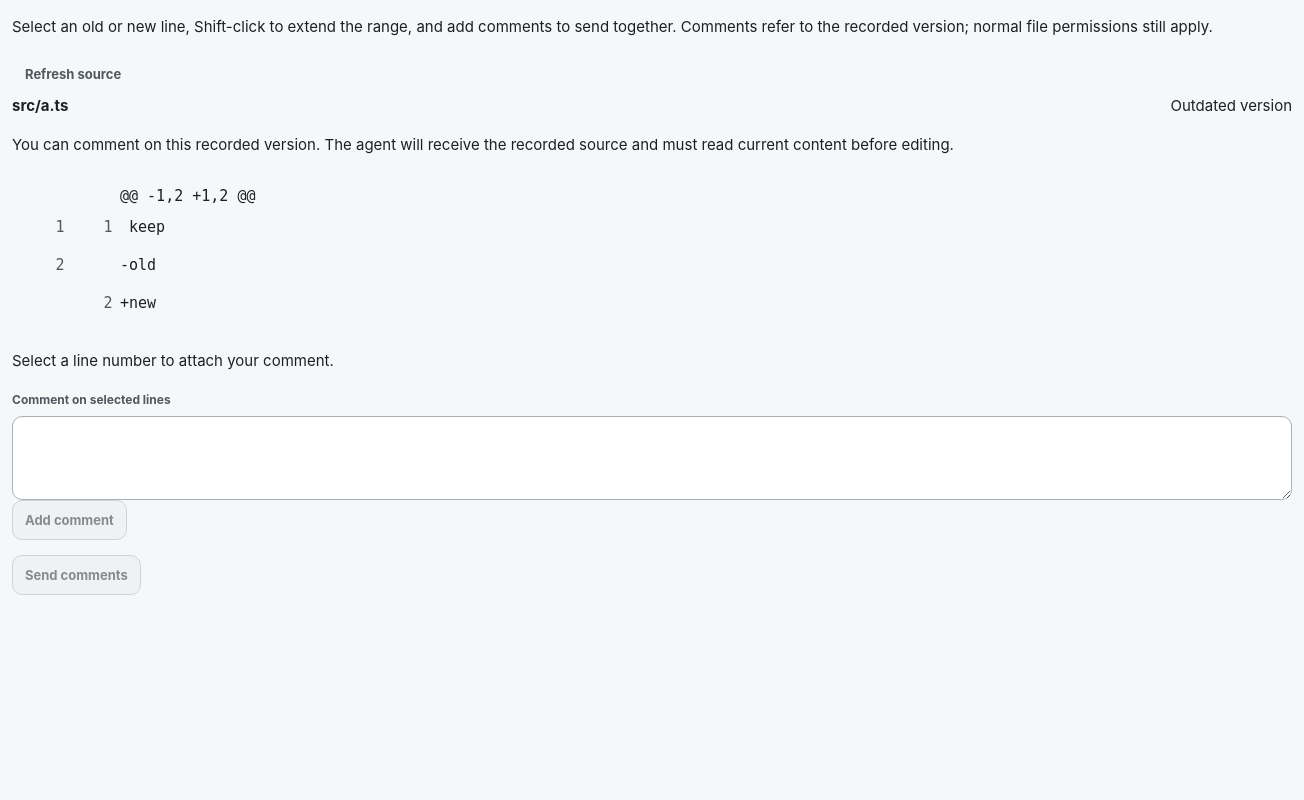
Test: sends an outdated original range and preserves the batch through deferred failure and retry
Expected: the text "Outdated version" is shown, x1=1170 y1=94 x2=1292 y2=118
Click the button named "Select src/a.ts new line 1" at coordinates (108, 227), box x1=72 y1=208 x2=144 y2=246
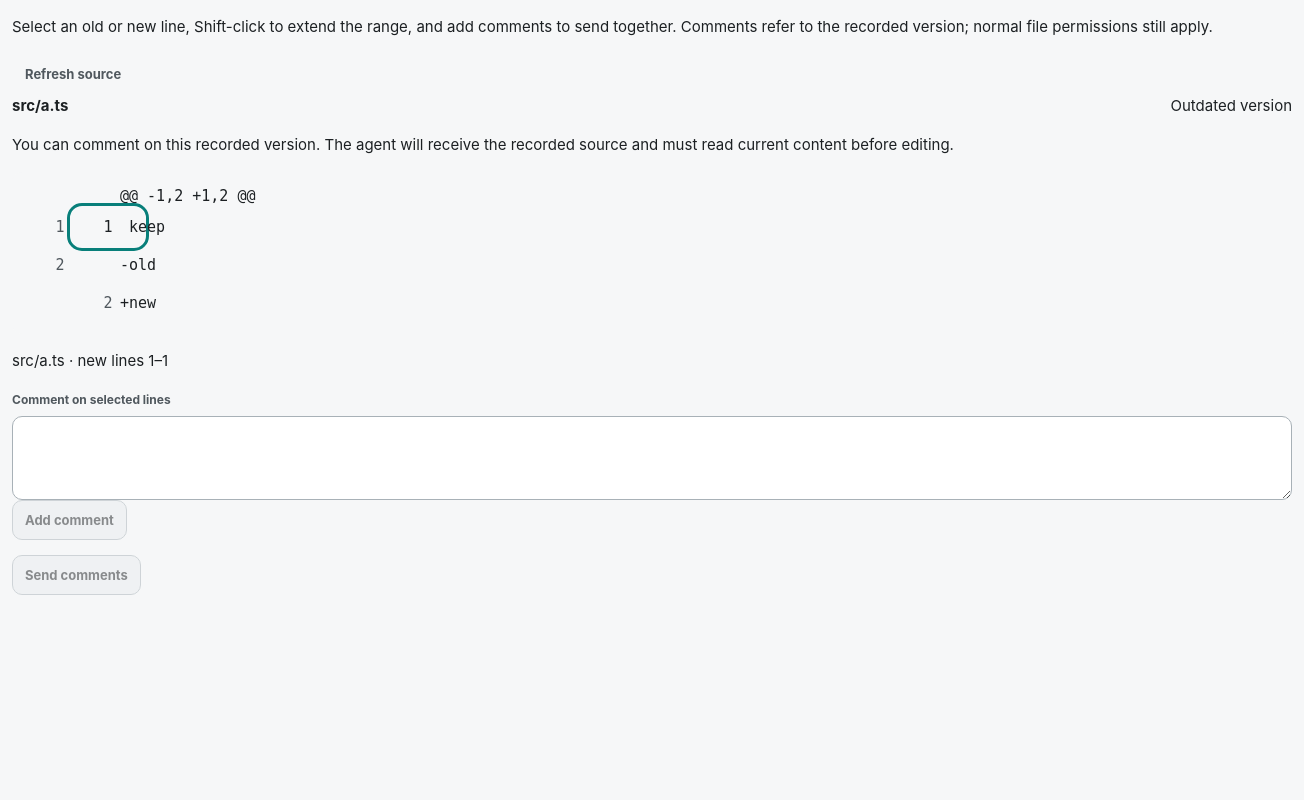
Click the button named "Select src/a.ts new line 2" at coordinates (108, 303), box x1=72 y1=284 x2=144 y2=322
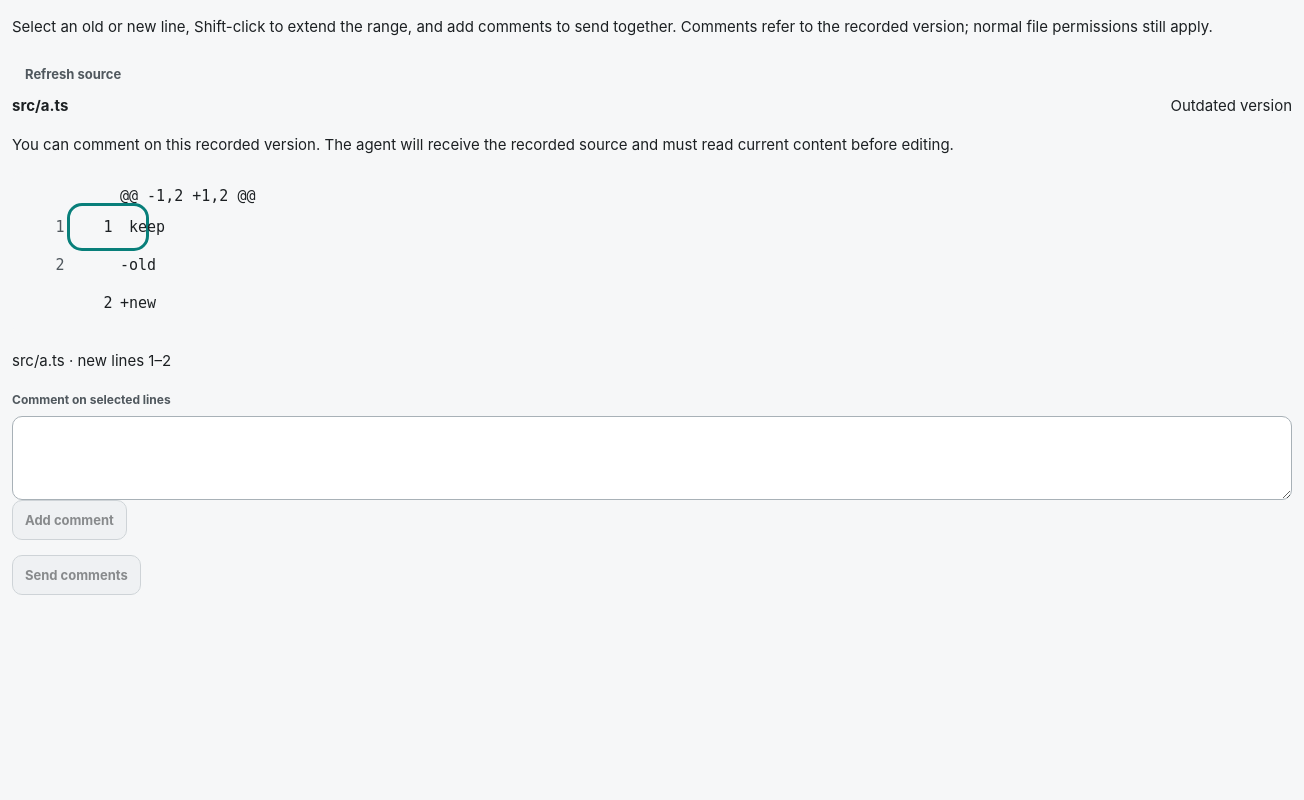
Type "Please clarify the new behavior" into the text box at coordinates (652, 458), box x1=12 y1=416 x2=1292 y2=500
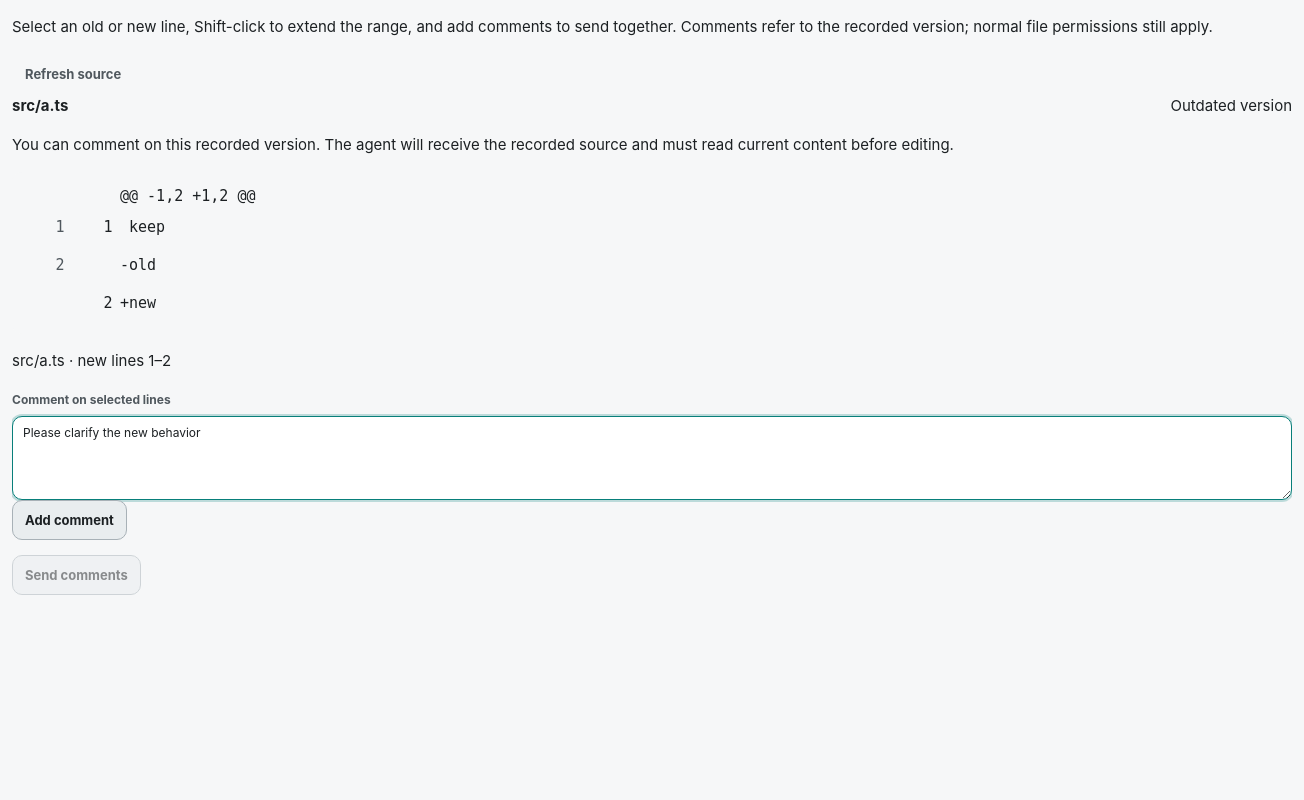
Click the button "Add comment" at coordinates (69, 520), box x1=12 y1=500 x2=127 y2=540
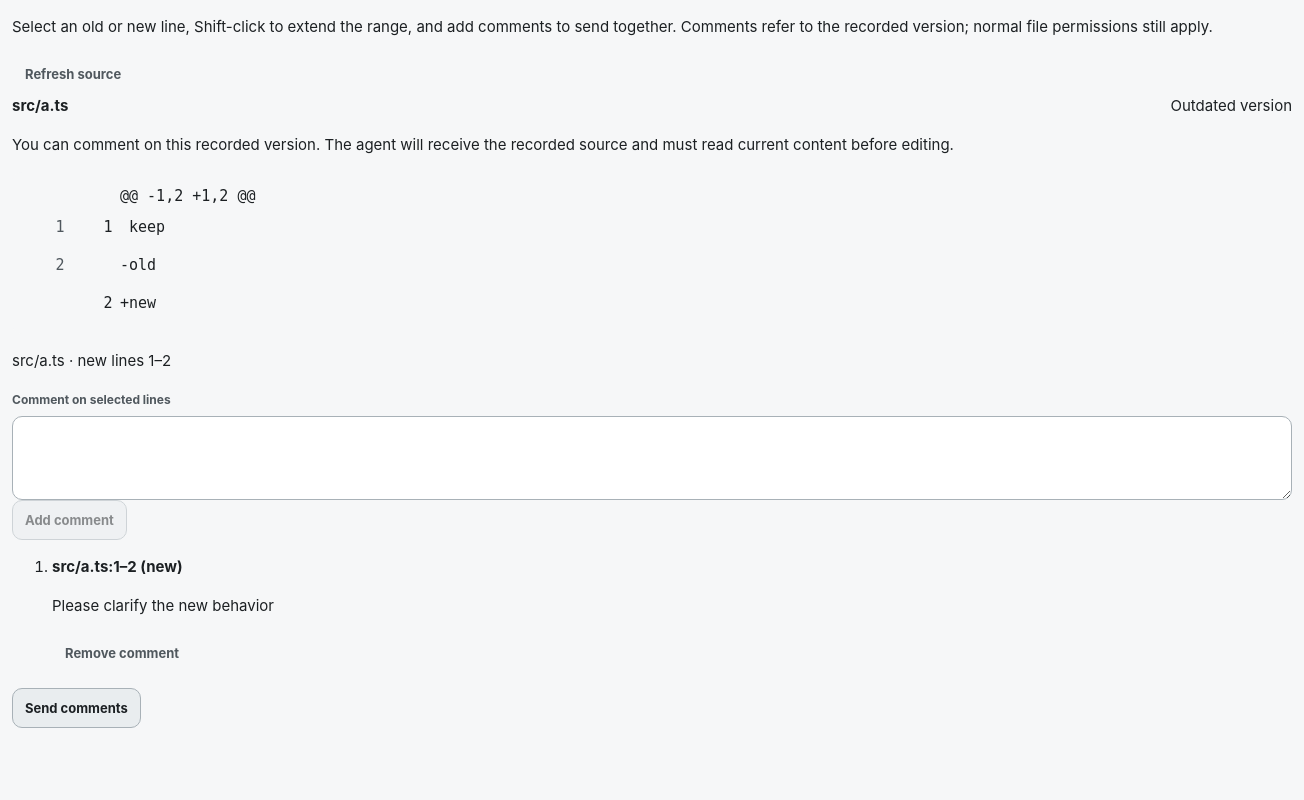
Click the button "Send comments" at coordinates (76, 708), box x1=12 y1=688 x2=141 y2=728
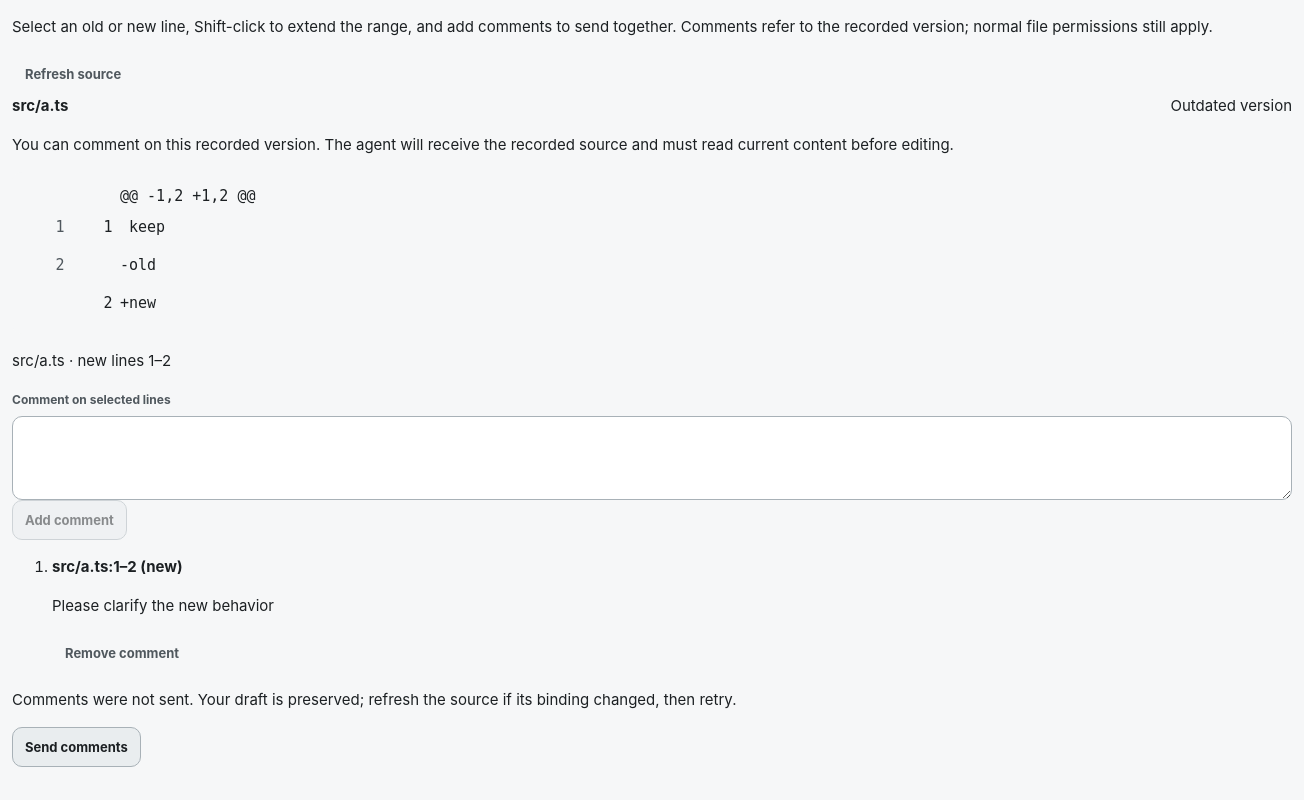
Now the text "Please clarify the new behavior" is shown, box x1=52 y1=596 x2=274 y2=615
Now the message shows "preserved", box x1=12 y1=690 x2=736 y2=709
Click the button "Send comments" at coordinates (76, 747), box x1=12 y1=727 x2=141 y2=767
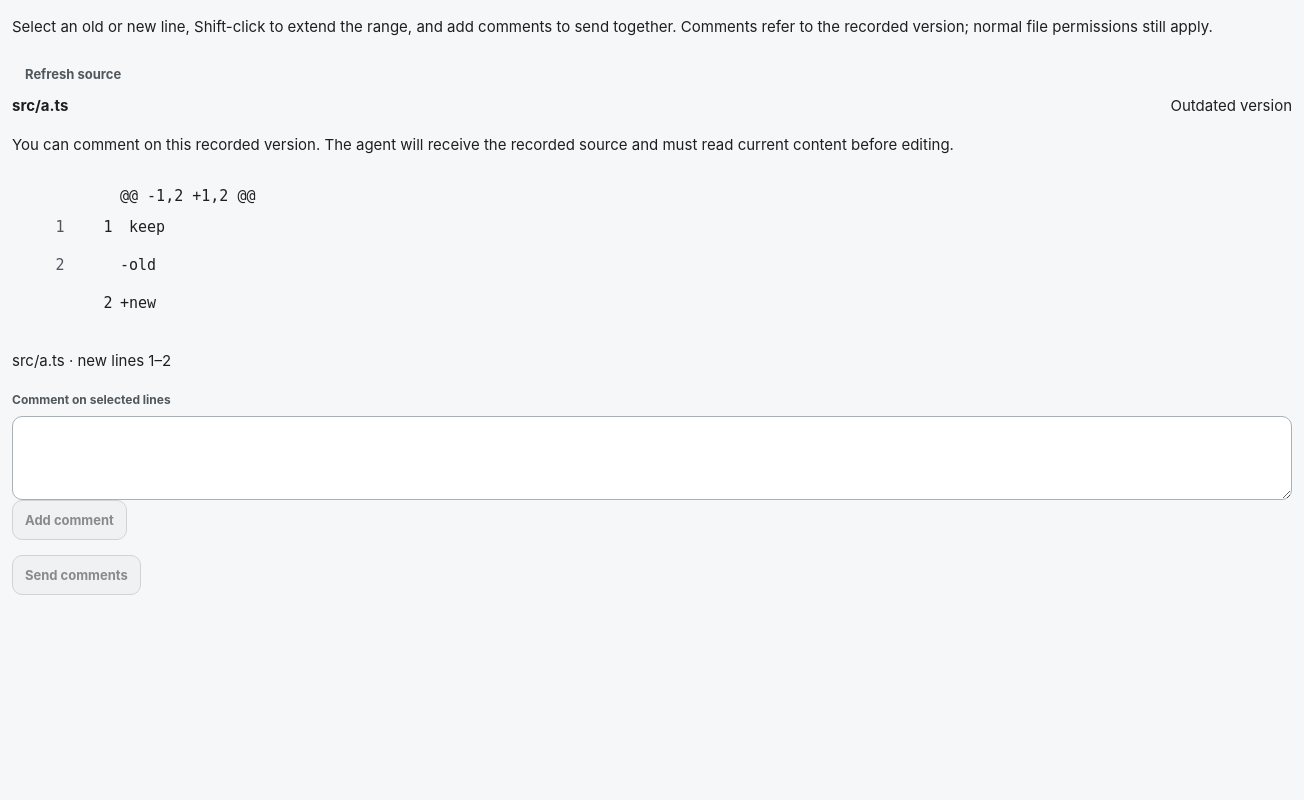
Now the text "Please clarify the new behavior" is gone
